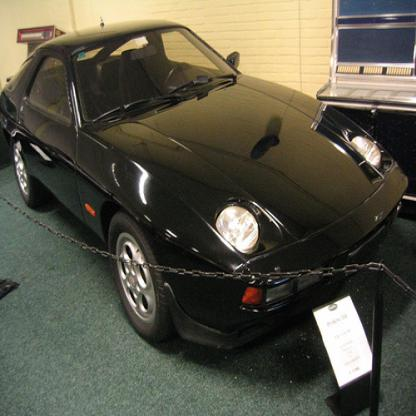car: (1, 16, 412, 352)
